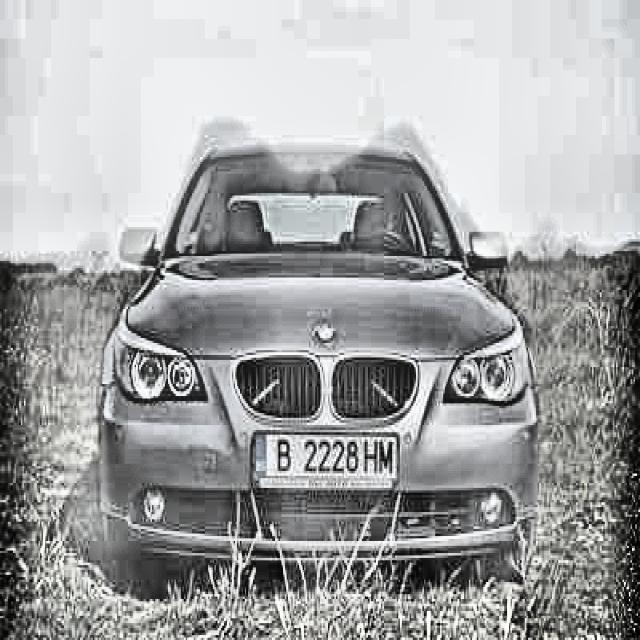license_plate: (257, 435, 400, 483)
